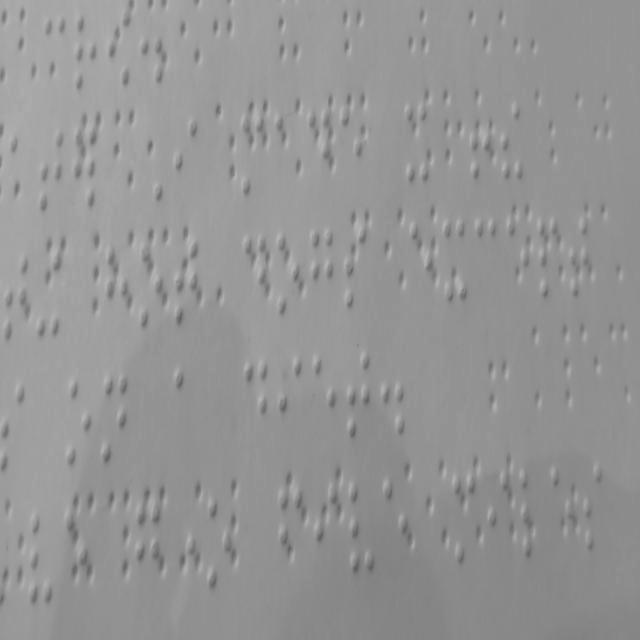braiile: (132, 496, 162, 616), (204, 488, 233, 610), (26, 500, 56, 615), (380, 468, 410, 583), (311, 477, 341, 590), (346, 474, 375, 590), (306, 354, 336, 466), (580, 454, 610, 564), (62, 368, 92, 476), (61, 502, 91, 610), (98, 367, 128, 474), (240, 354, 268, 468), (550, 457, 578, 570), (516, 462, 544, 574), (277, 477, 304, 593), (172, 362, 200, 472), (346, 340, 374, 448), (484, 460, 511, 570), (448, 468, 476, 574), (407, 214, 435, 318), (172, 228, 199, 335), (304, 102, 332, 205), (336, 98, 364, 201), (276, 350, 302, 460), (2, 246, 30, 348), (503, 210, 532, 308), (38, 118, 65, 222), (102, 238, 130, 338), (240, 230, 268, 330), (308, 222, 335, 324), (342, 221, 370, 319), (439, 212, 467, 309), (401, 100, 431, 189), (274, 104, 300, 206), (472, 214, 498, 315), (276, 226, 303, 322), (240, 106, 266, 202), (137, 236, 163, 330), (72, 11, 100, 97), (568, 208, 592, 306), (174, 111, 198, 207), (536, 210, 560, 304), (41, 11, 65, 92)
